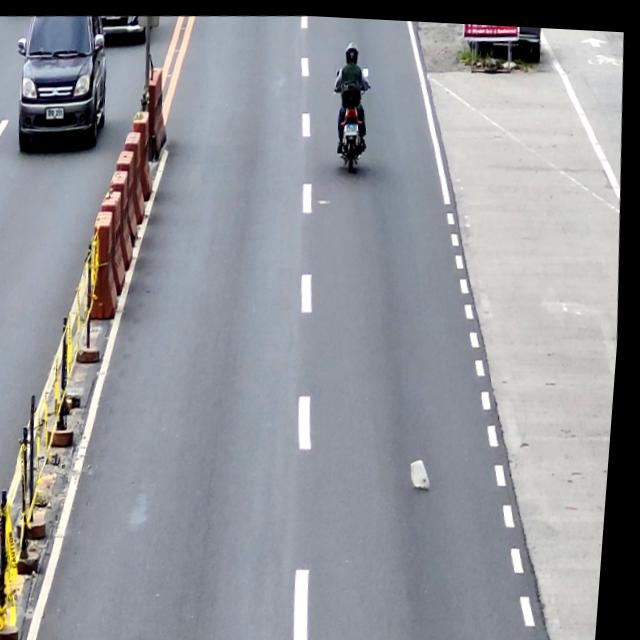License-Plate: (345, 119, 360, 133)
Motorcycle: (331, 56, 376, 170)
